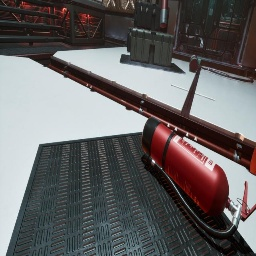FireExtinguisher ]: (142, 116, 256, 239)
NitrogenTank ,: (160, 0, 168, 28), (189, 54, 199, 72), (250, 146, 256, 175)
